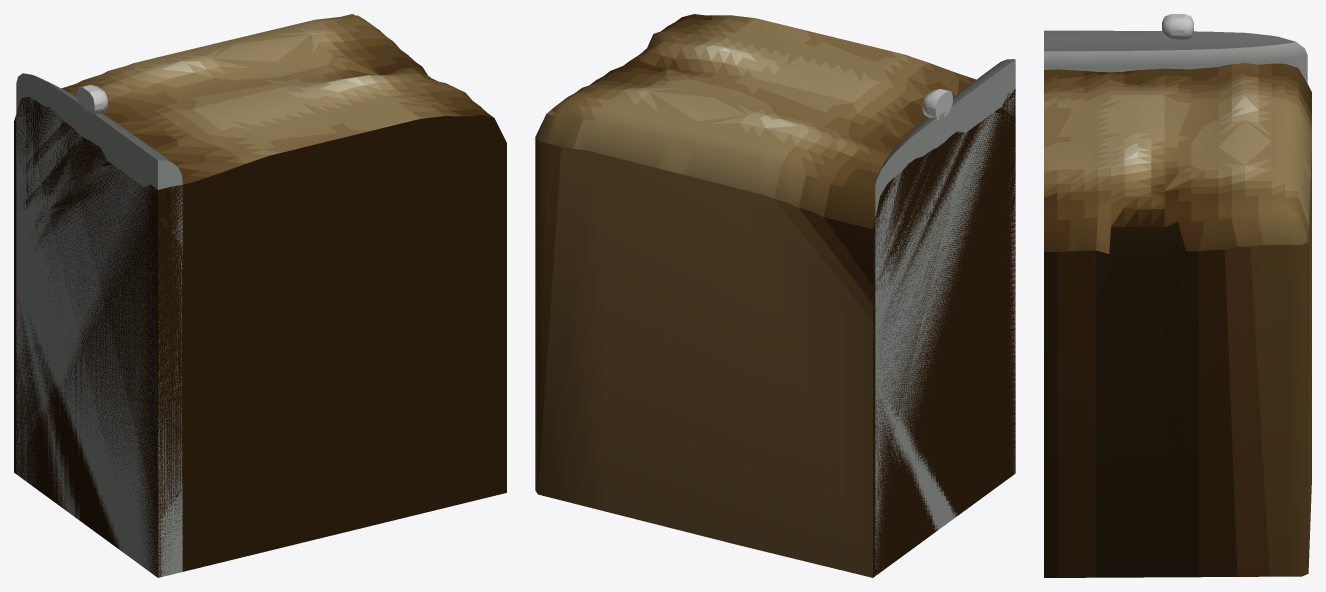
Rendered from skull_chest_t4.glb.
3 views of the same model, side by side, from view 1: azimuth 30°, elevation 25°; view 2: azimuth 150°, elevation 25°; view 3: azimuth 270°, elevation 25° (orthographic). The views are drawn at different scales.
Visible parts, largest first — view 1: body, strap1, strap1_ridge0; view 2: body, strap1, strap1_ridge0; view 3: body, strap1, strap1_ridge0.
Boxes of the visible parts, box(x1,y1,x2,y2) form: body: box(14, 14, 506, 577); strap1: box(16, 73, 182, 577); strap1_ridge0: box(77, 85, 107, 115); body: box(535, 14, 1015, 577); strap1: box(875, 59, 1015, 575); strap1_ridge0: box(922, 89, 952, 119); body: box(1044, 63, 1311, 577); strap1: box(1044, 30, 1307, 83); strap1_ridge0: box(1162, 14, 1193, 39).
Bounding box in the file's own units: 14 × 16.7 × 10.
